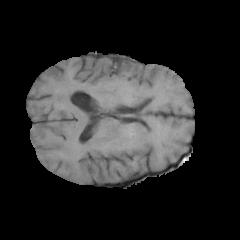glioma: (59, 61, 157, 124)
